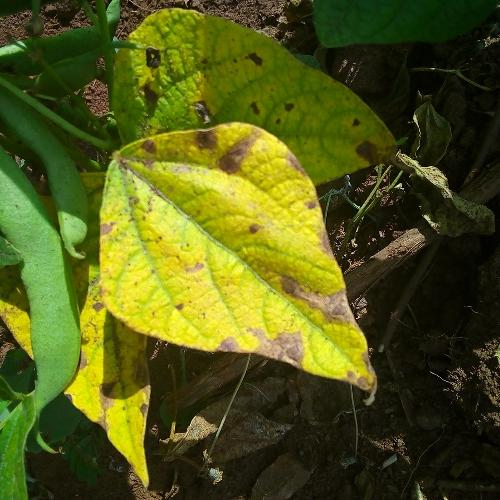hawar: (184, 193, 356, 367)
